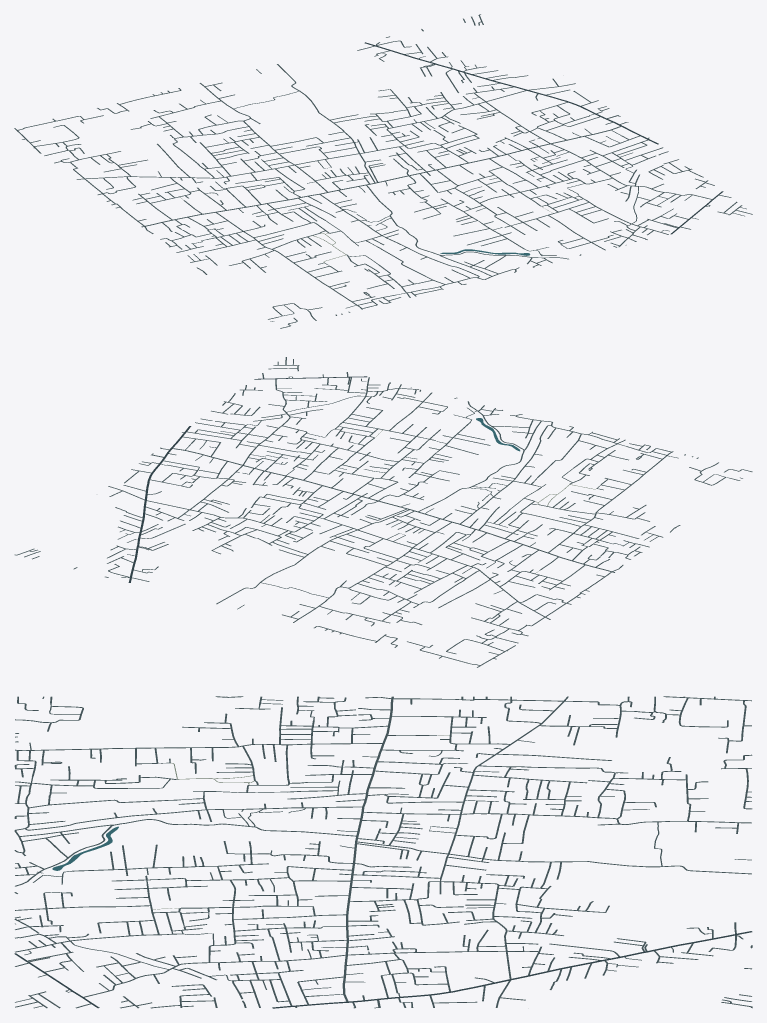
3 renders of one model, top to bottom at view 1: azimuth 30°, elevation 25°; view 2: azimuth 150°, elevation 25°; view 3: azimuth 270°, elevation 25°, orthographic. The views are drawn at different scales.
Visible parts, largest first — view 1: street, major; view 2: street, major; view 3: street, major.
Boxes of the visible parts, x1,y1,x2,y2 form: street: (14, 14, 752, 328); major: (364, 42, 723, 234); street: (14, 357, 752, 667); major: (128, 376, 367, 582); street: (14, 696, 752, 1008); major: (14, 931, 752, 1008).
Bounding box in the file's own units: 2006 × 6.42 × 2005.
